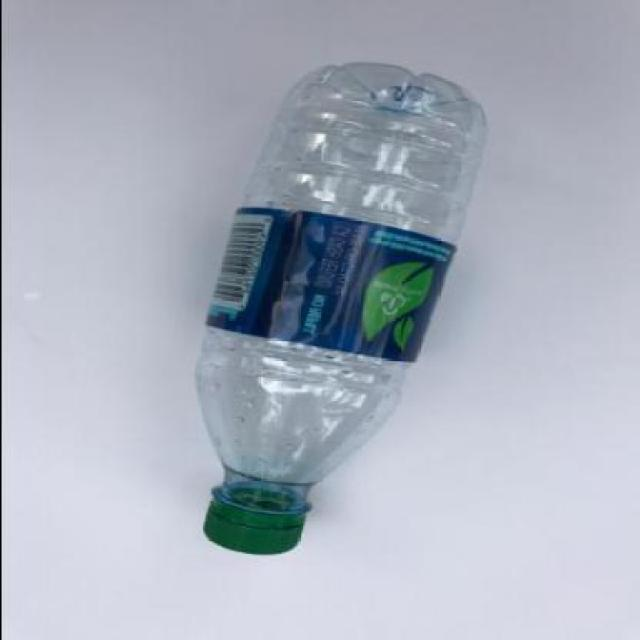PLASTIC: (198, 62, 486, 553), (209, 208, 455, 361), (204, 469, 310, 553)
